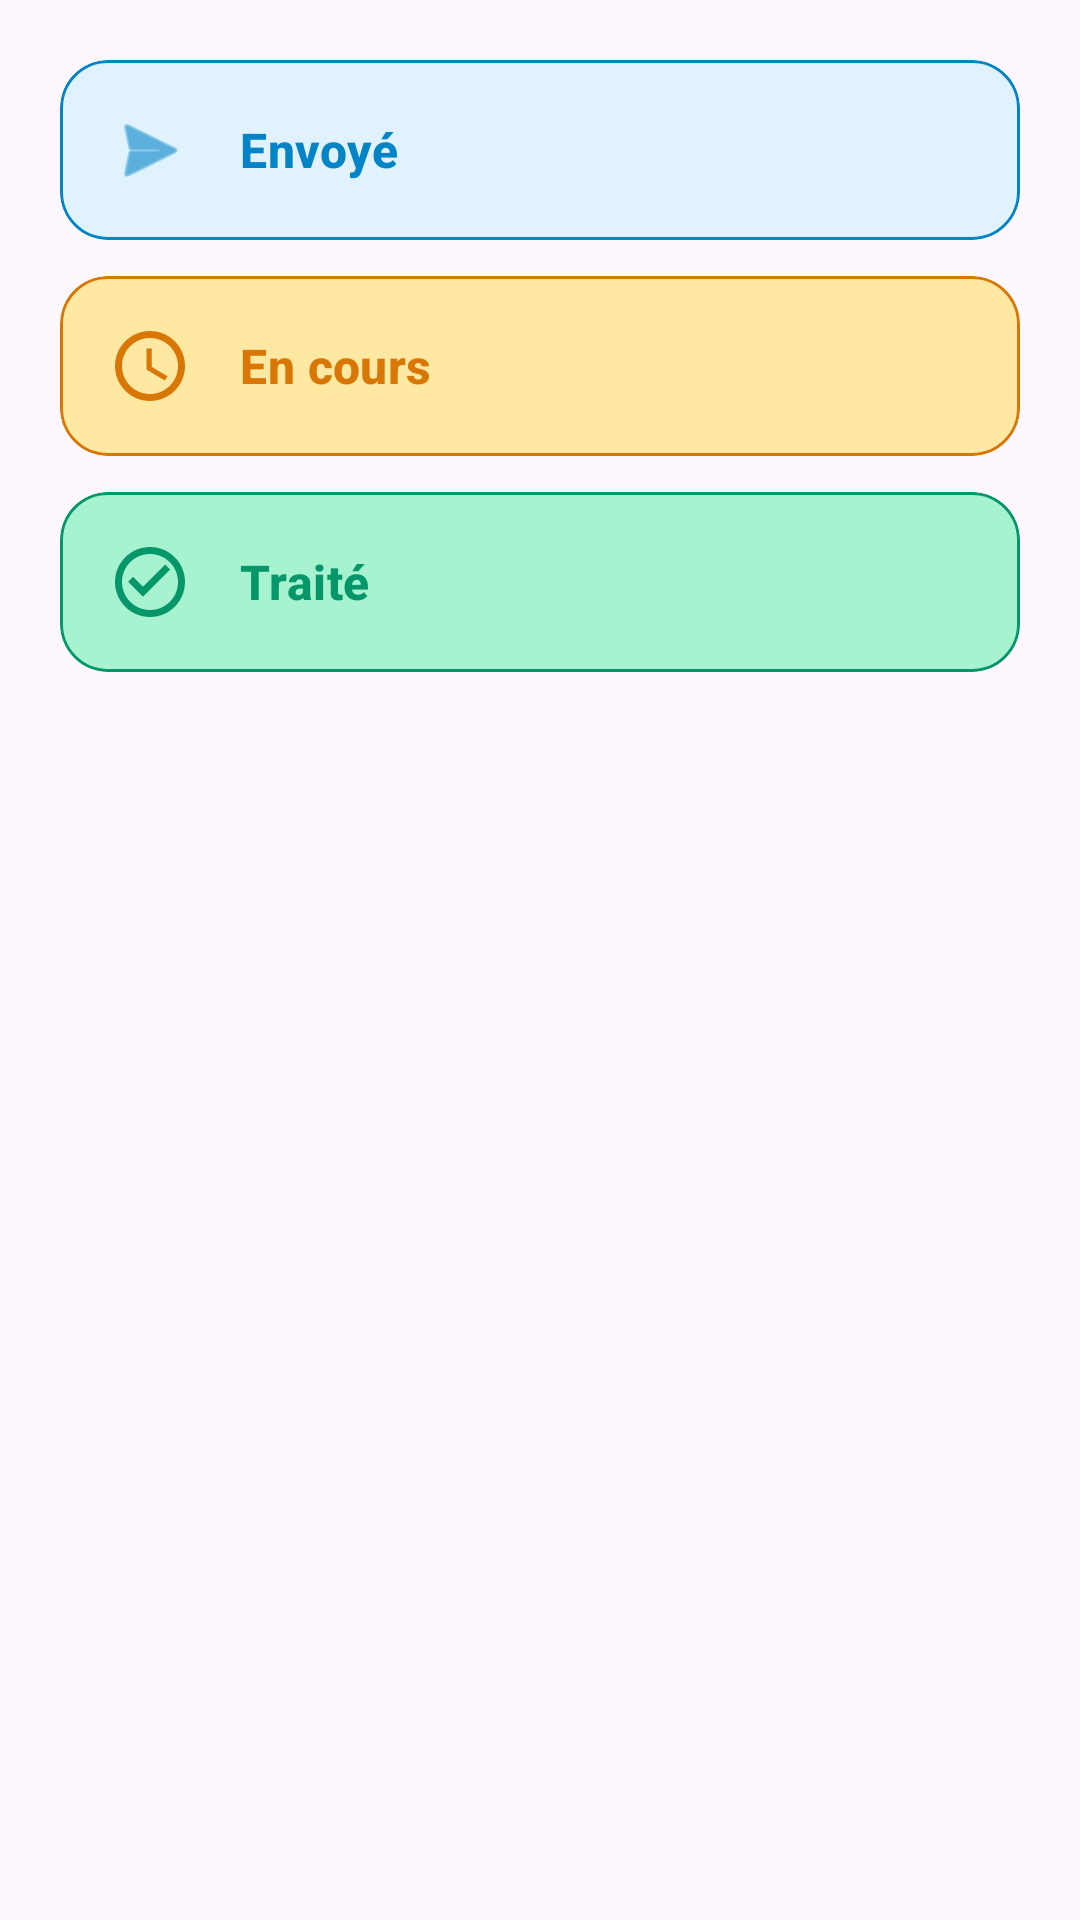

Point at icon controls on the screen. Image size 1080*1920, points as [x,y].
done: [150,582]
pending: [150,366]
send: [151,150]
